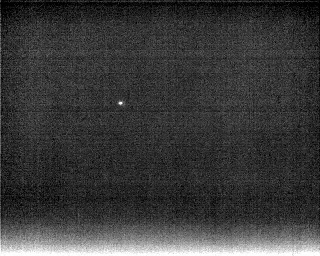BIRD: (116, 98, 125, 108)
